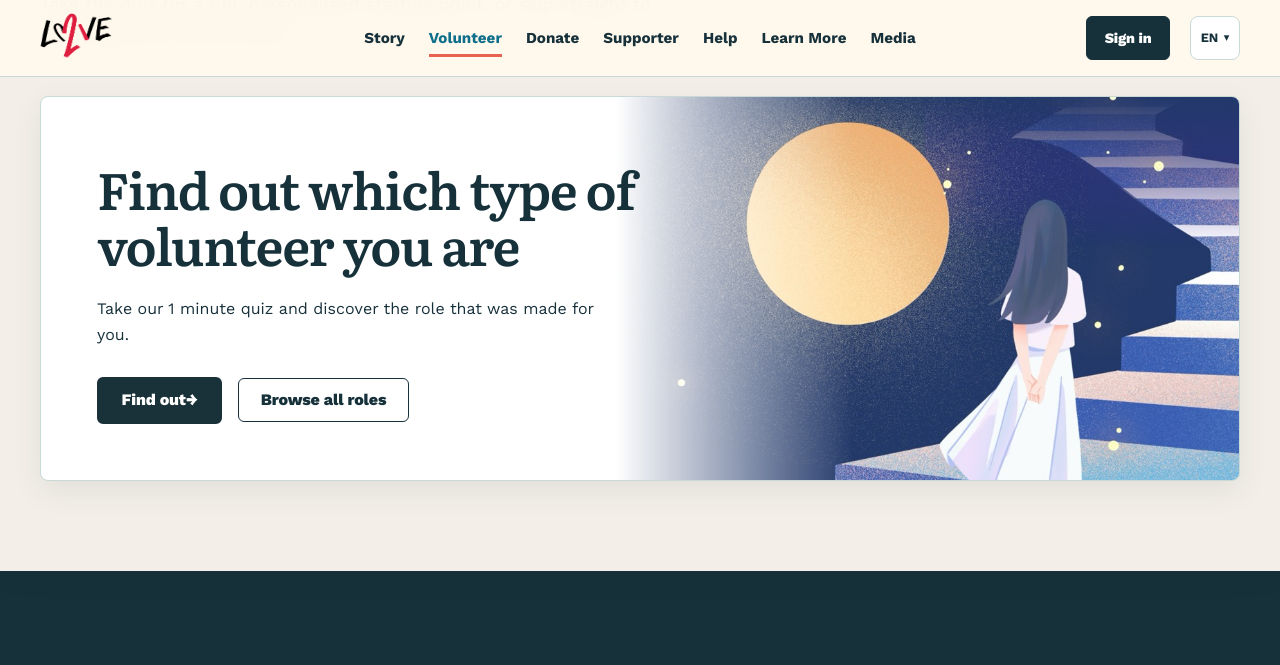
Scenario: closed-loop forms › supports the quick path without matching
(page scrolled)
Click the link "Browse all roles": coordinates (324, 400) left=238, top=378, right=409, bottom=422
(page scrolled)
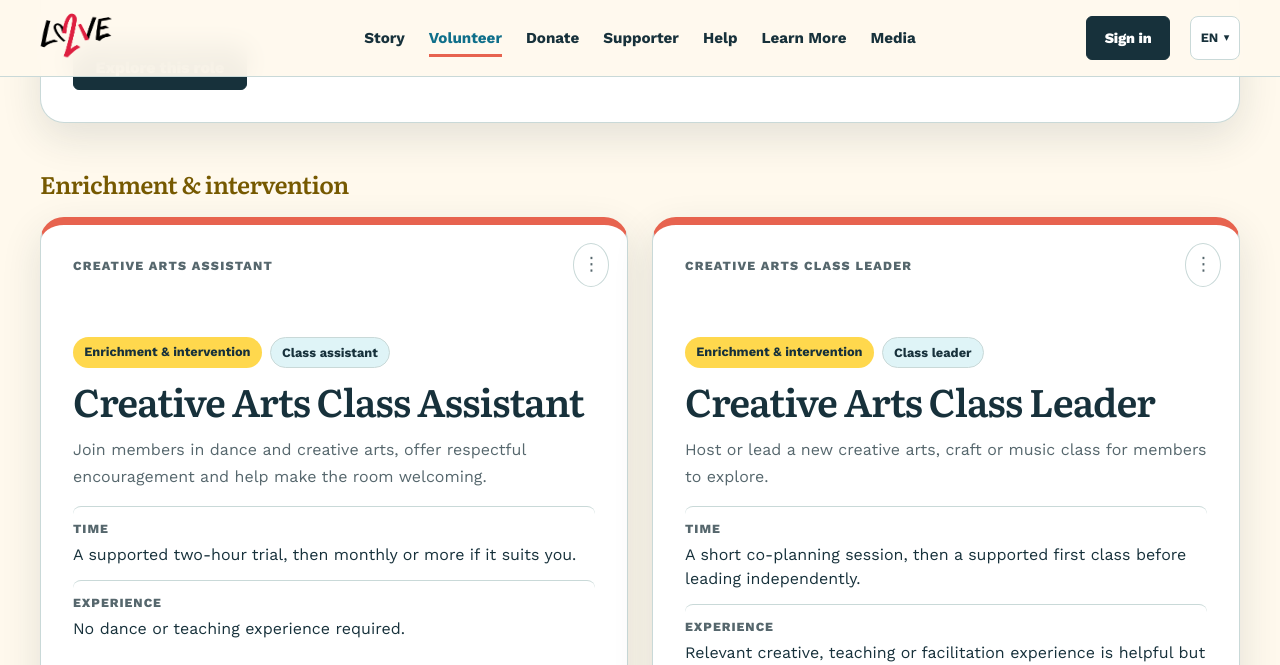
Expected: the heading "Creative Arts Class Assistant" is shown, left=73, top=380, right=595, bottom=421
